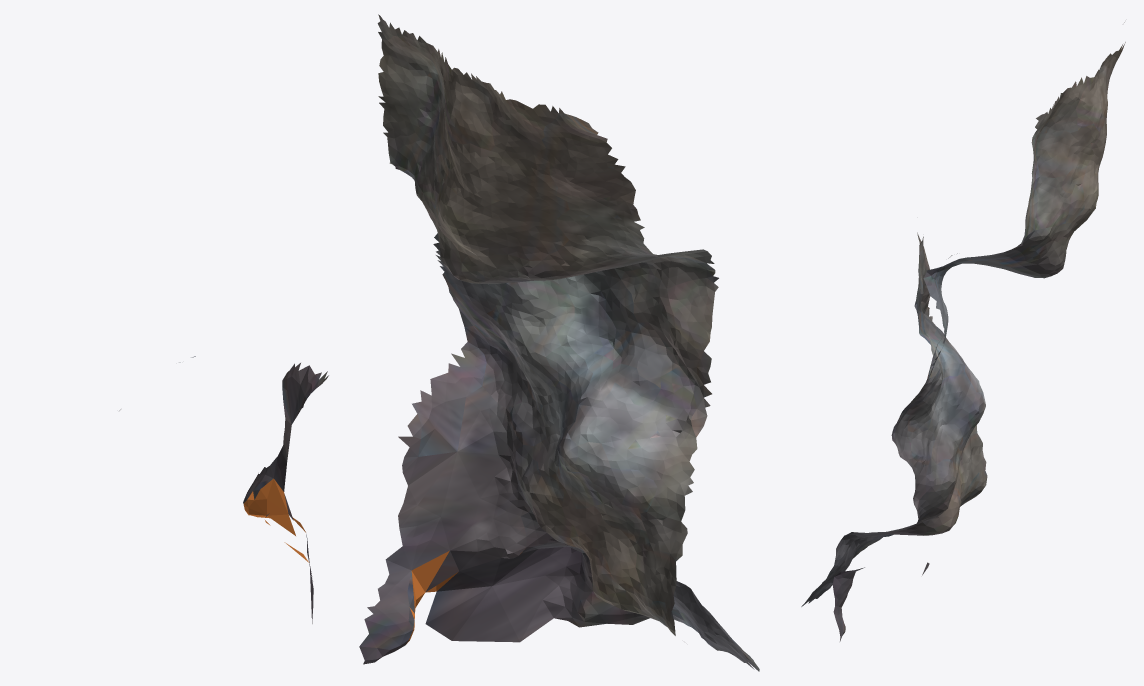
The model's file is tile_0042.gltf.
3 views of the same model, side by side, from view 1: azimuth 30°, elevation 25°; view 2: azimuth 150°, elevation 25°; view 3: azimuth 270°, elevation 25° (orthographic). The views are drawn at different scales.
Visible parts, largest first — view 1: defaultobject; view 2: defaultobject; view 3: defaultobject.
Part boxes in pixels (x1,y1,x2,y2): defaultobject: [119, 356, 328, 623]; defaultobject: [359, 14, 759, 671]; defaultobject: [801, 22, 1125, 641].
Size of the model in its own units: 0.1739 by 0.4096 by 0.2206.
Materials: 1 (1 with a texture image).
